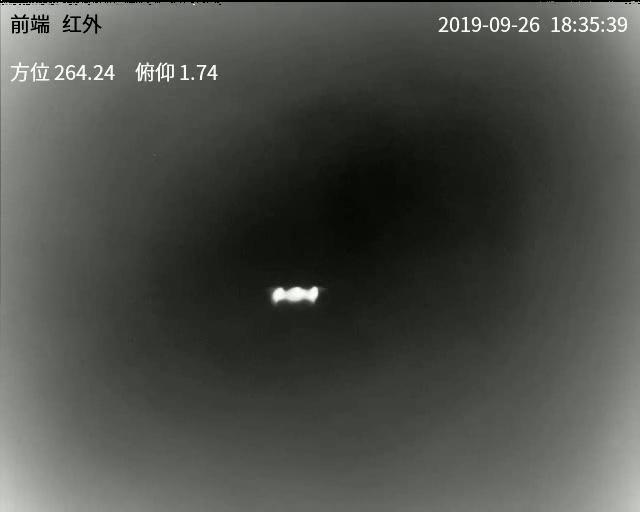DRONE: (271, 285, 320, 303)
